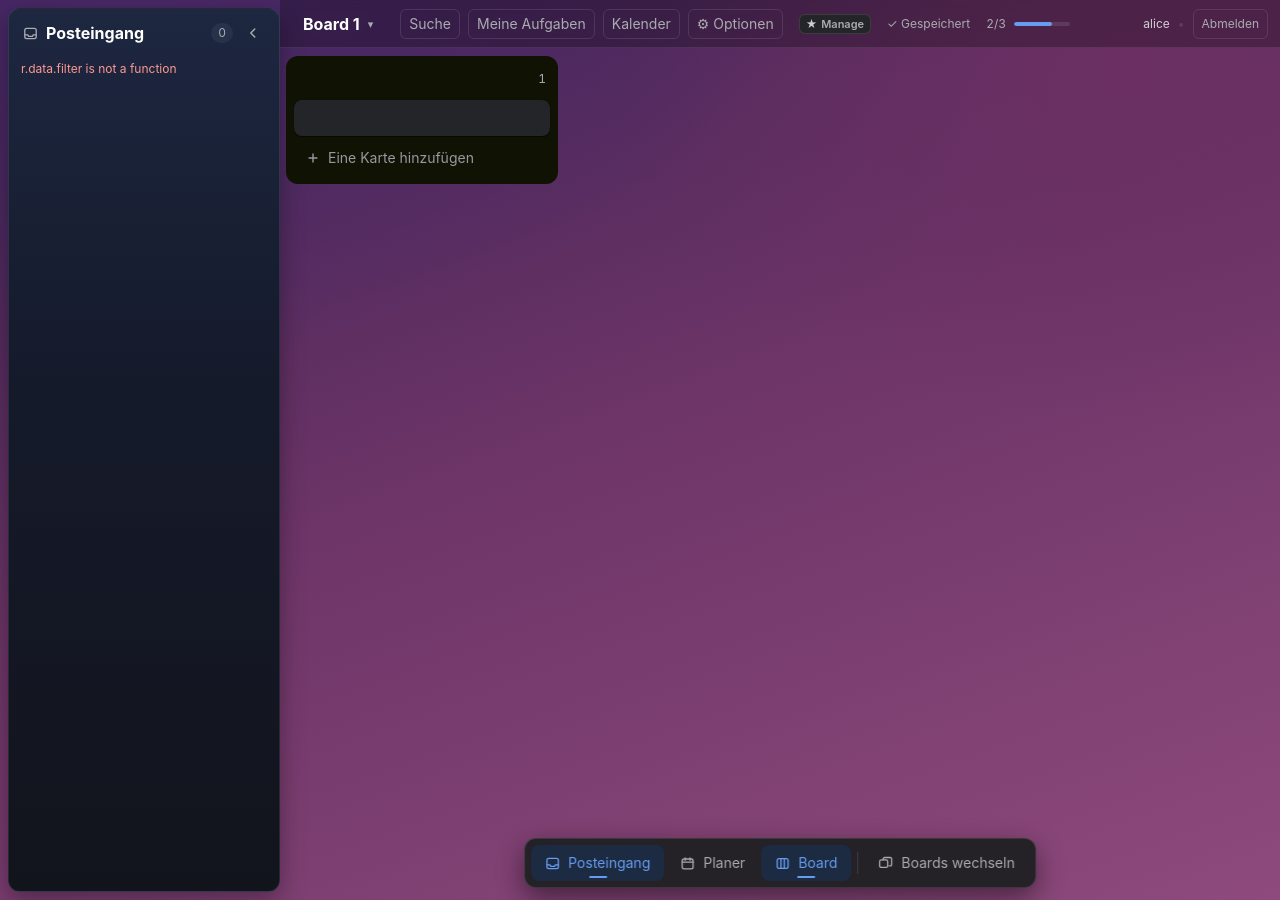
Test: BoardApp load progress › reveals loaded card and list counts on hover
The image size is (1280, 900).
Hover over the progress indicator named "Ladefortschritt aller Boards" at [1028, 24], box [986, 14, 1070, 34]
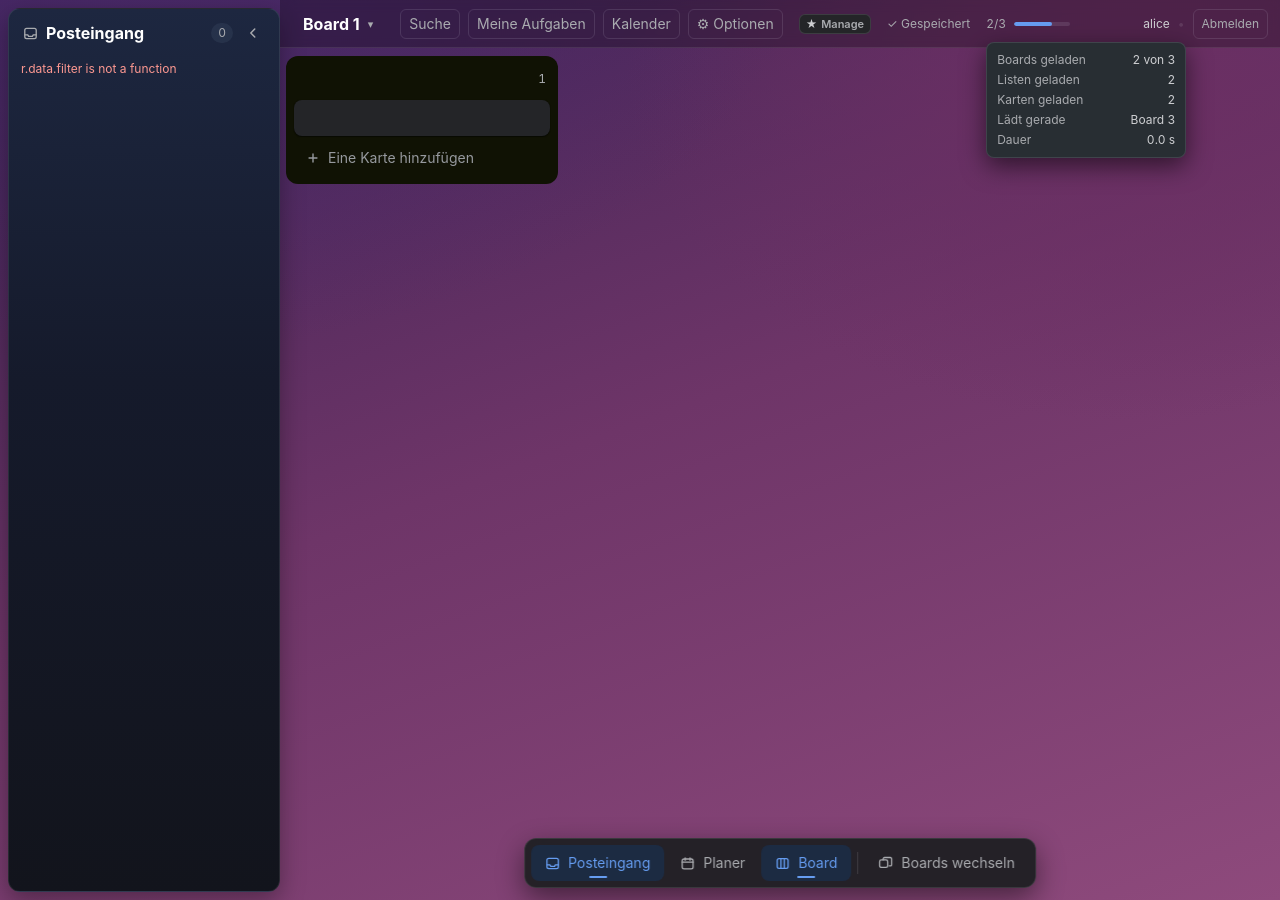
Now the tooltip is shown, box [986, 42, 1186, 158]
Now the tooltip shows "Boards geladen", box [997, 52, 1086, 66]
Now the tooltip shows "Karten geladen", box [997, 92, 1083, 106]
Move the pointer off the progress indicator named "Ladefortschritt aller Boards", box [986, 14, 1070, 34]
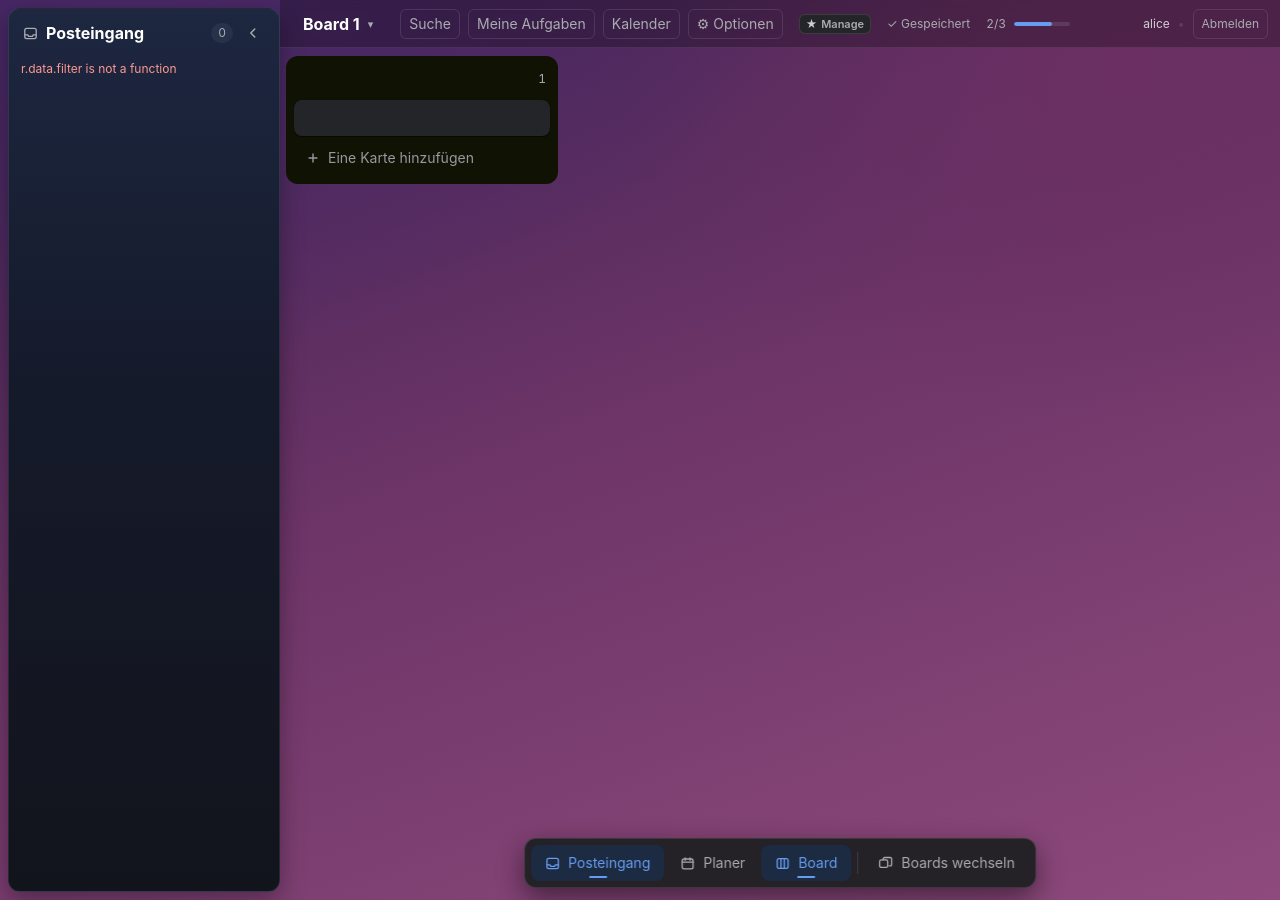
Now the tooltip is gone
